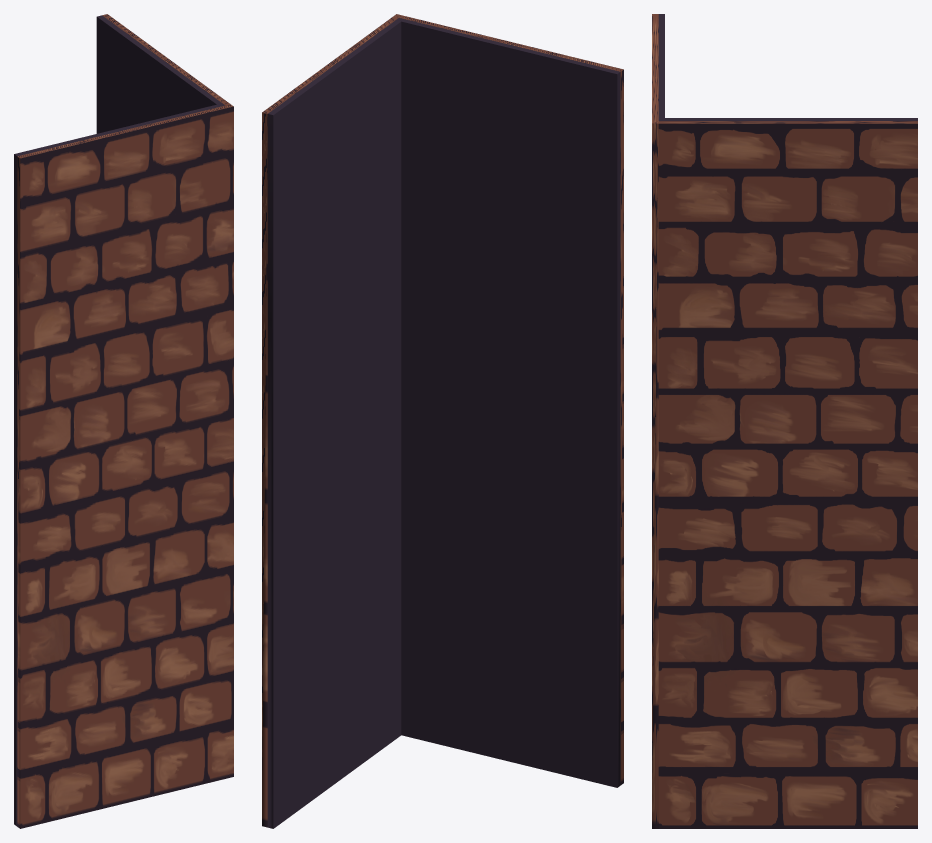
The model's file is Wall_Brick_Combo_Corner.fbx.
3 renders of one model, left to right at view 1: azimuth 30°, elevation 25°; view 2: azimuth 150°, elevation 25°; view 3: azimuth 270°, elevation 25°, orthographic. The views are drawn at different scales.
Visible parts, largest first — view 1: polySurface11; view 2: polySurface11; view 3: polySurface11.
Part boxes in pixels (bbox=[...]): polySurface11: bbox=[14, 14, 233, 828]; polySurface11: bbox=[262, 14, 623, 828]; polySurface11: bbox=[652, 14, 917, 828].
Bounding box in the file's own units: 100 × 300 × 102.
Materials: 2 (2 with a texture image).
